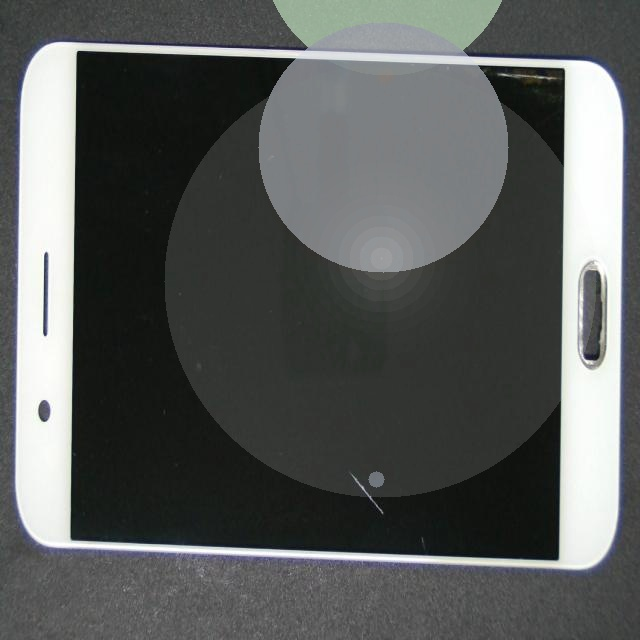scratch: (218, 260, 557, 640)
